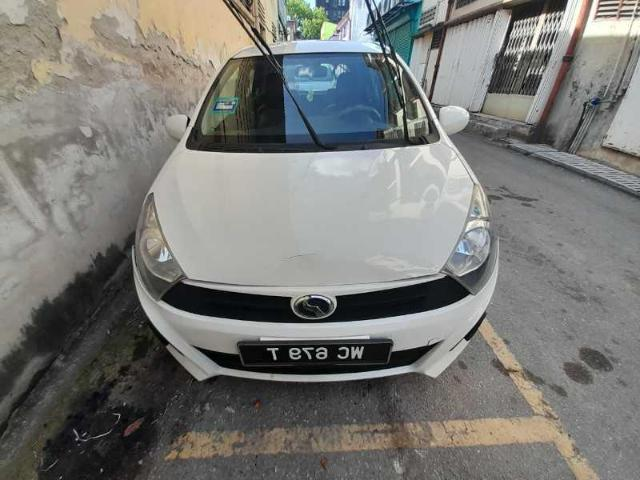License_Plate: (237, 339, 393, 368)
car: (132, 39, 501, 385)
